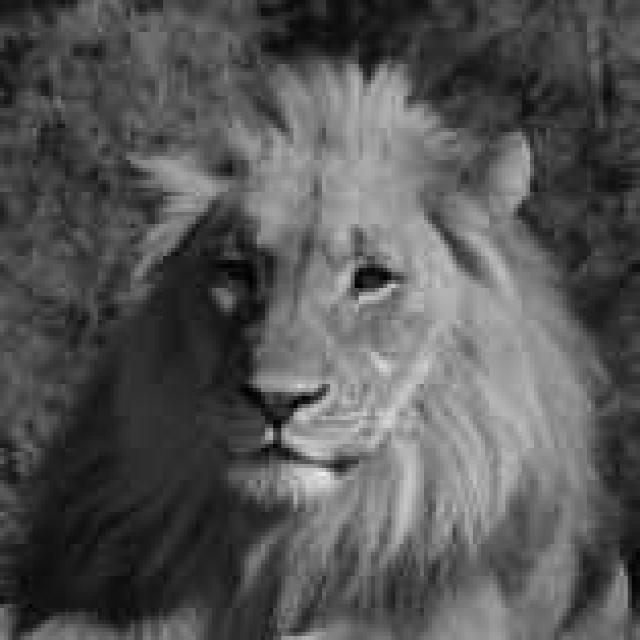Lion: (104, 75, 501, 580)
